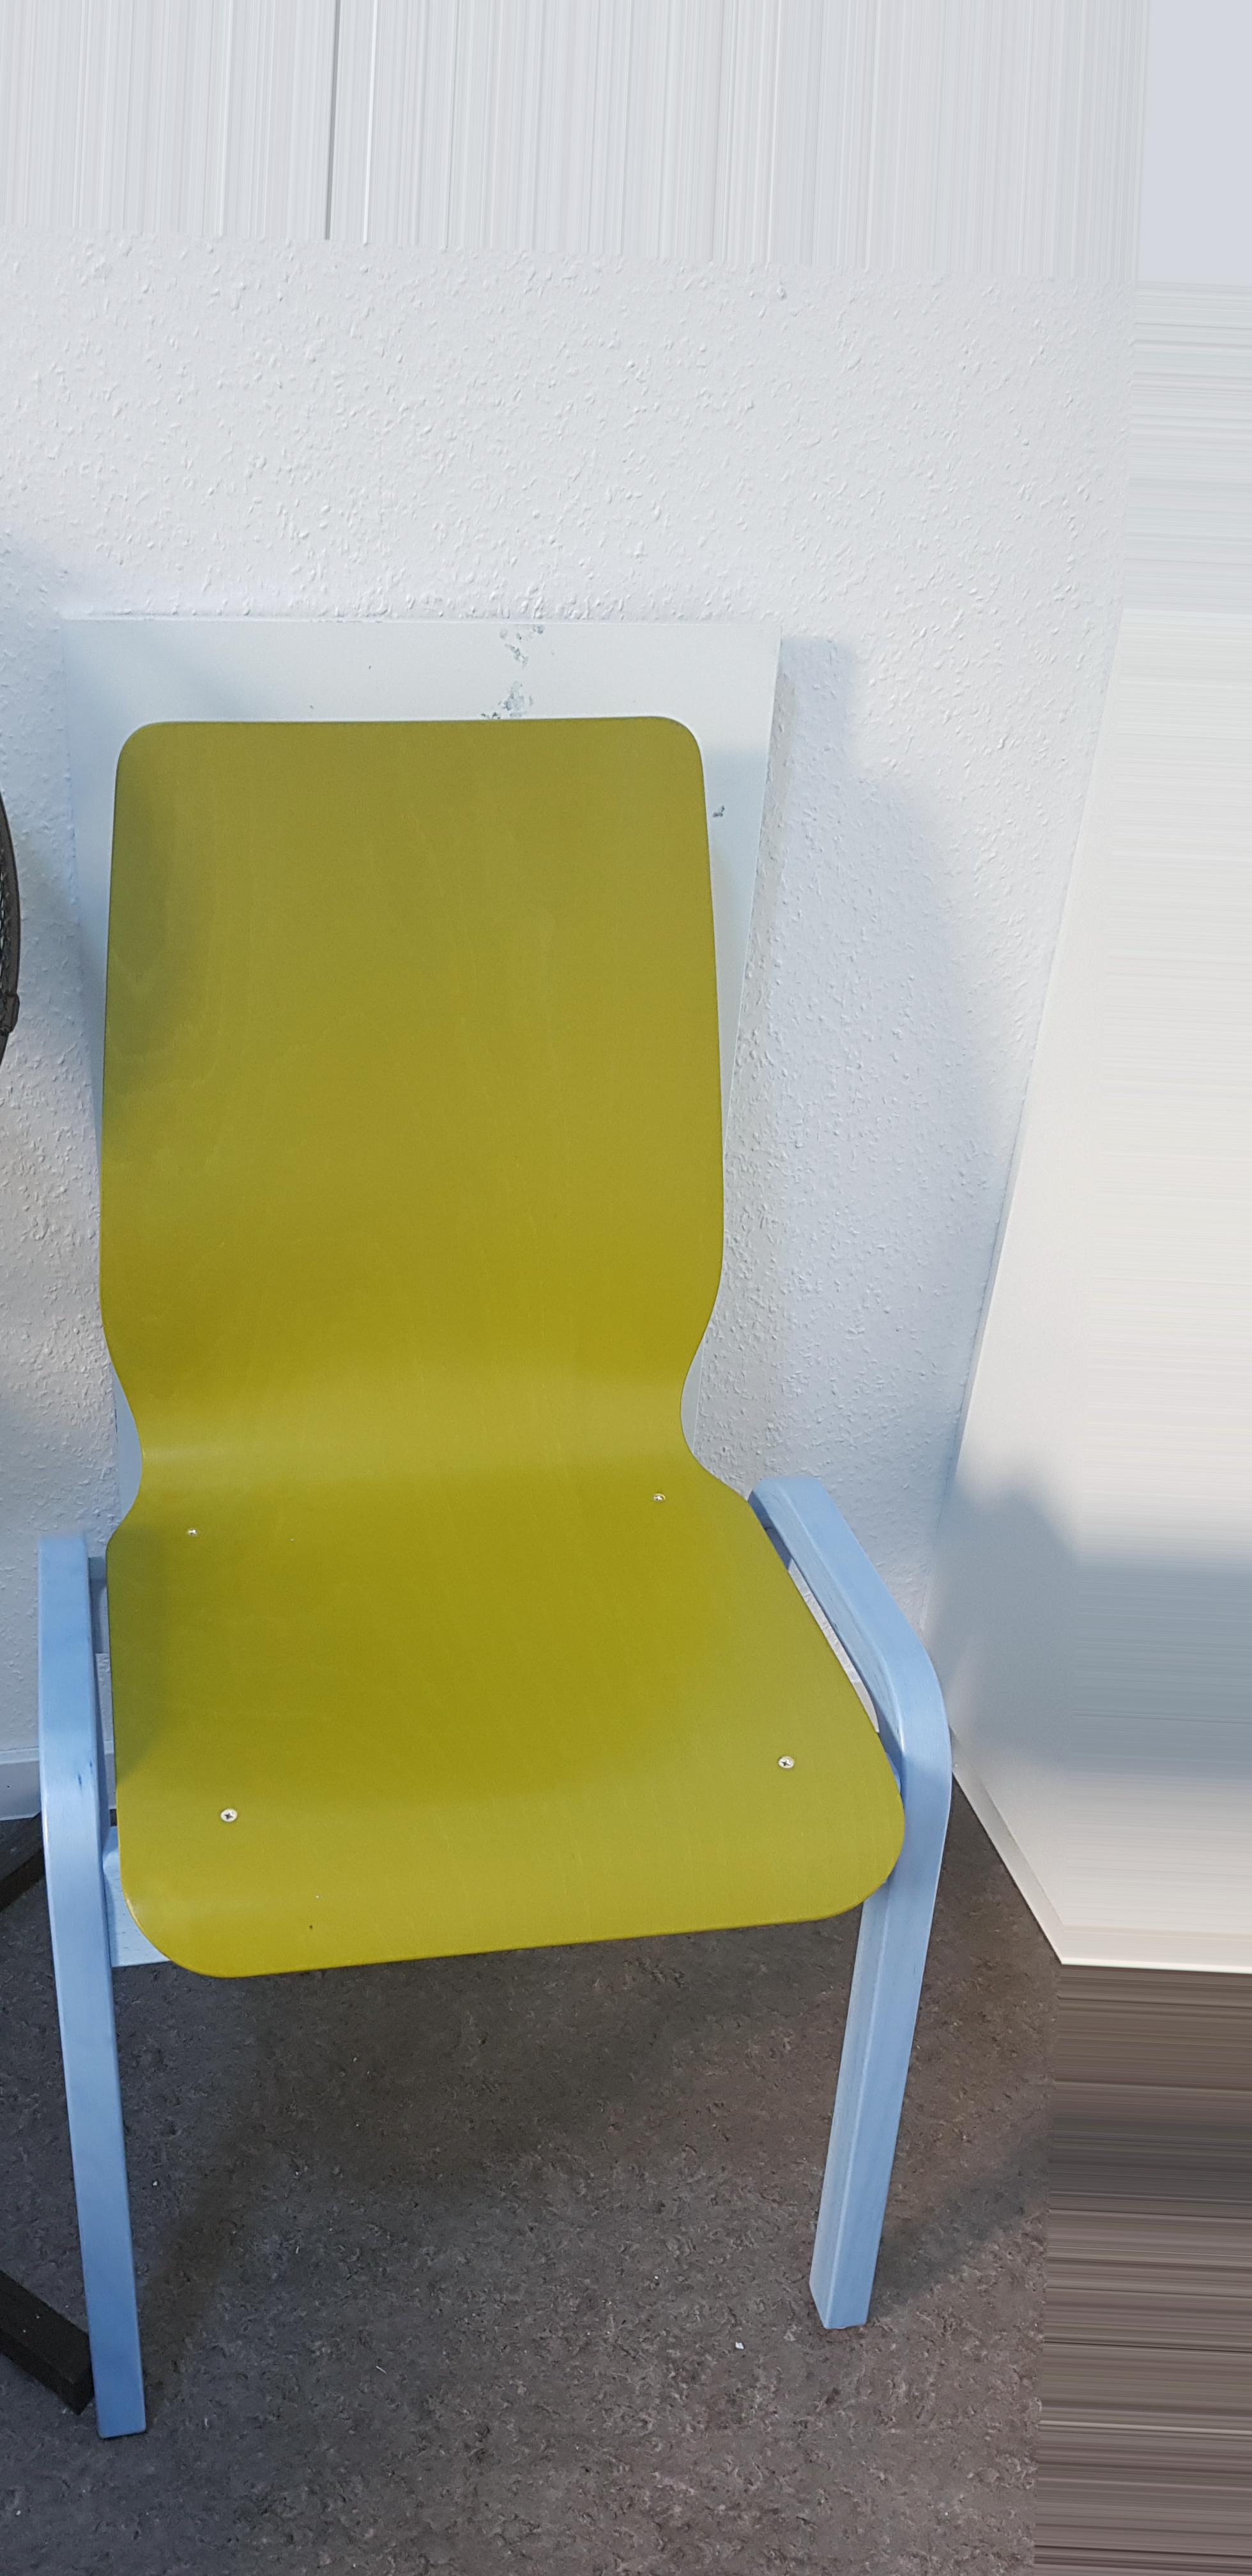chair: (35, 710, 963, 2440)
